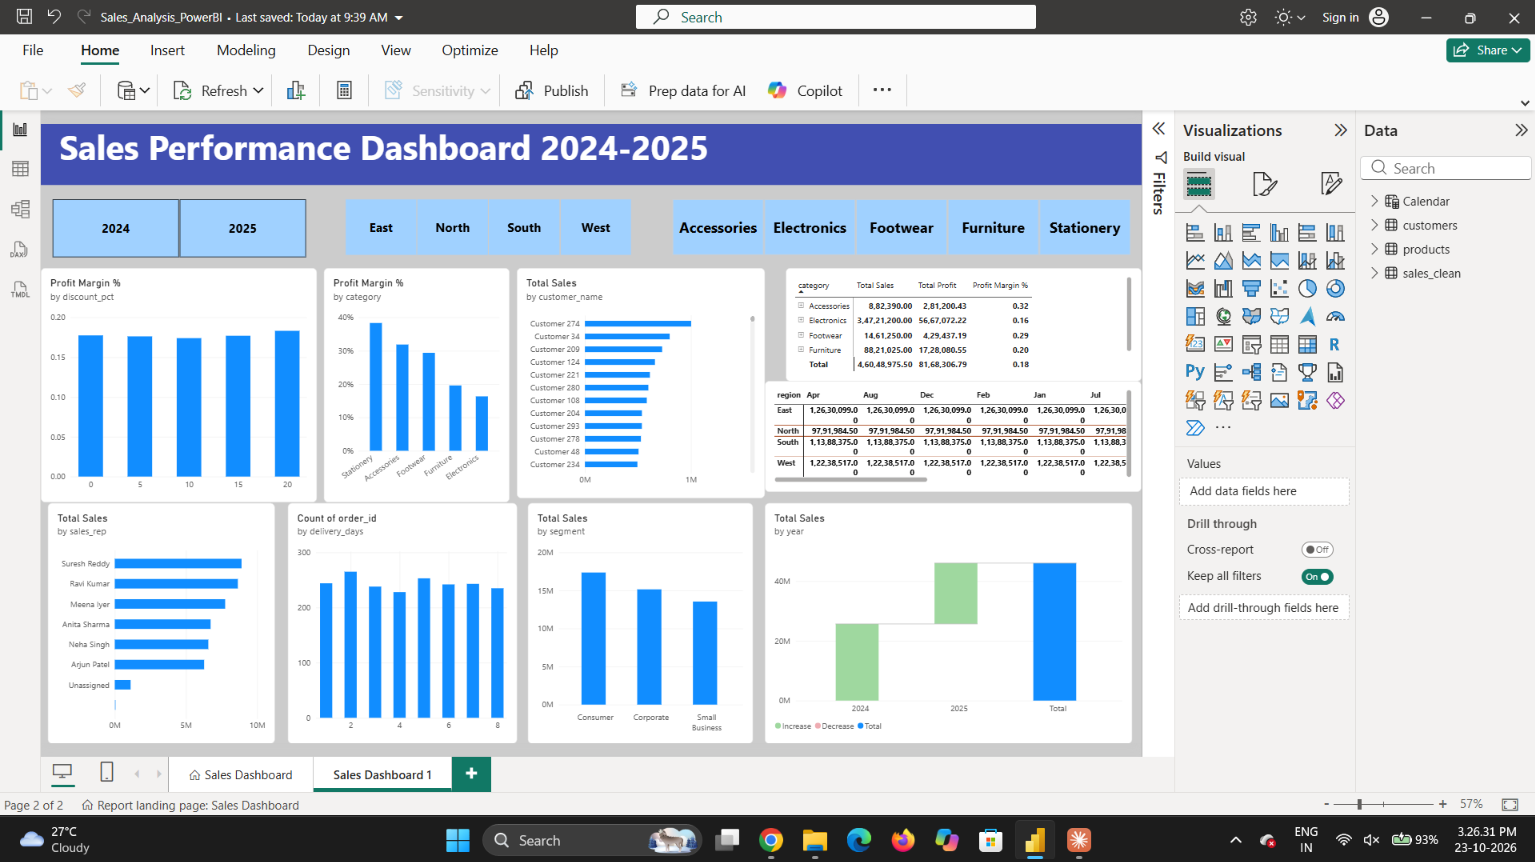

What the dashboard file says about the page in this screenshot:
{"tool":"powerbi","page":{"name":"Sales Dashboard 1","canvas":[1920,1080],"ordinal":1},"visuals":[{"type":"columnChart","fields":{"Category":["sales_clean.discount_pct"],"Y":["sales_clean.Profit Margin %"]},"box":[0,251.5,481.4,409],"z":0},{"type":"clusteredColumnChart","fields":{"Category":["sales_clean.category"],"Y":["sales_clean.Profit Margin %"]},"box":[494,251.5,323.9,409],"z":1},{"type":"barChart","fields":{"Category":["sales_clean.sales_rep"],"Y":["sales_clean.Total Sales"]},"box":[12.7,660.5,396.3,419.8],"z":2},{"type":"barChart","fields":{"Category":["sales_clean.customer_name"],"Y":["sales_clean.Total Sales"]},"box":[830.6,251.5,432.5,401.7],"z":3},{"type":"pivotTable","fields":{"Rows":["sales_clean.category","sales_clean.product_name"],"Values":["sales_clean.Total Sales","sales_clean.Total Profit","sales_clean.Profit Margin %"]},"box":[1299.3,251.5,620.7,197.3],"z":4},{"type":"pivotTable","fields":{"Columns":["Calendar.Month"],"Rows":["sales_clean.region"],"Values":["sales_clean.Total Sales"]},"box":[1263.1,448.8,656.9,193.6],"z":5},{"type":"columnChart","fields":{"Category":["sales_clean.segment"],"Y":["sales_clean.Total Sales"]},"box":[848.7,660.5,392.7,419.8],"z":7},{"type":"clusteredColumnChart","fields":{"Category":["sales_clean.delivery_days"],"Y":["CountNonNull(sales_clean.order_id)"]},"box":[430.7,660.5,399.9,419.8],"z":8},{"type":"waterfallChart","fields":{"Category":["sales_clean.year","sales_clean.category"],"Y":["sales_clean.Total Sales"]},"box":[1263.1,660.5,640.6,419.8],"z":9},{"type":"slicer","fields":{"Values":["sales_clean.year"]},"box":[0,128.5,481.4,105],"z":12},{"type":"slicer","fields":{"Values":["sales_clean.region"]},"box":[510.3,128.5,537.5,101.3],"z":13},{"type":"slicer","fields":{"Values":["sales_clean.category"]},"box":[1082.2,128.5,837.9,101.3],"z":14},{"type":"textbox","box":[0,0,1920.1,106.8],"z":15}]}

Visuals, with their boxes on the page's 1920x1080 design canvas (x1, y1, x2, y2). These are canvas units, not pixel positions in the 1535x862 screenshot, which may show the page scaled, cropped or inside an application window:
columnChart - sales_clean.discount_pct x sales_clean.Profit Margin %: bbox=[0, 252, 481, 660]
clusteredColumnChart - sales_clean.category x sales_clean.Profit Margin %: bbox=[494, 252, 818, 660]
barChart - sales_clean.sales_rep x sales_clean.Total Sales: bbox=[13, 660, 409, 1080]
barChart - sales_clean.customer_name x sales_clean.Total Sales: bbox=[831, 252, 1263, 653]
pivotTable - sales_clean.category x sales_clean.product_name: bbox=[1299, 252, 1920, 449]
pivotTable - Calendar.Month x sales_clean.region: bbox=[1263, 449, 1920, 642]
columnChart - sales_clean.segment x sales_clean.Total Sales: bbox=[849, 660, 1241, 1080]
clusteredColumnChart - sales_clean.delivery_days x CountNonNull(sales_clean.order_id): bbox=[431, 660, 831, 1080]
waterfallChart - sales_clean.year x sales_clean.category: bbox=[1263, 660, 1904, 1080]
slicer - sales_clean.year: bbox=[0, 128, 481, 234]
slicer - sales_clean.region: bbox=[510, 128, 1048, 230]
slicer - sales_clean.category: bbox=[1082, 128, 1920, 230]
textbox: bbox=[0, 0, 1920, 107]
